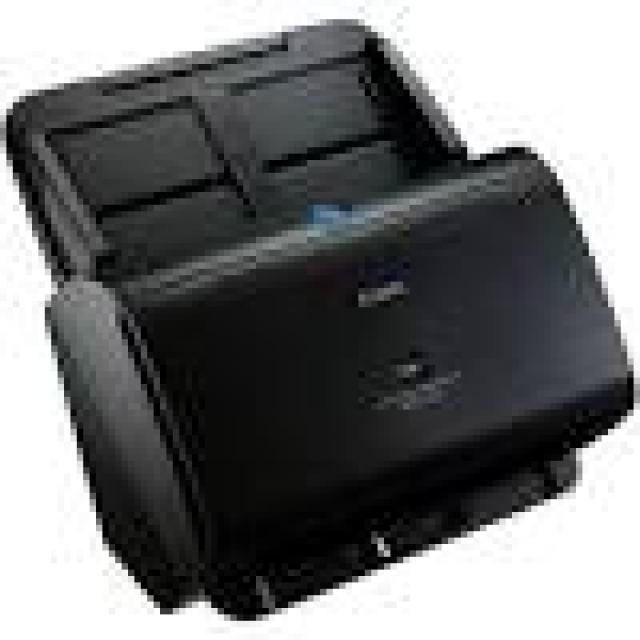printer: (0, 10, 640, 636)
